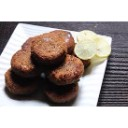cutlet: (50, 52, 86, 84), (40, 79, 75, 104), (34, 34, 67, 60), (10, 49, 41, 75)
